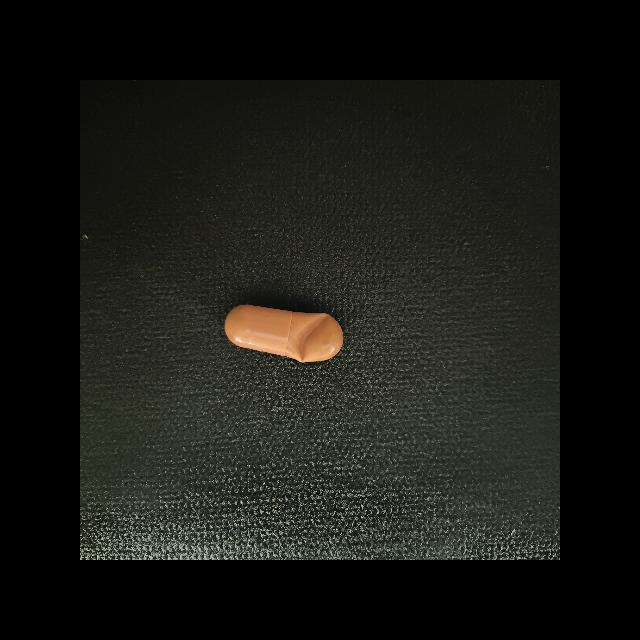Defective Capsule: (295, 313, 332, 363)
